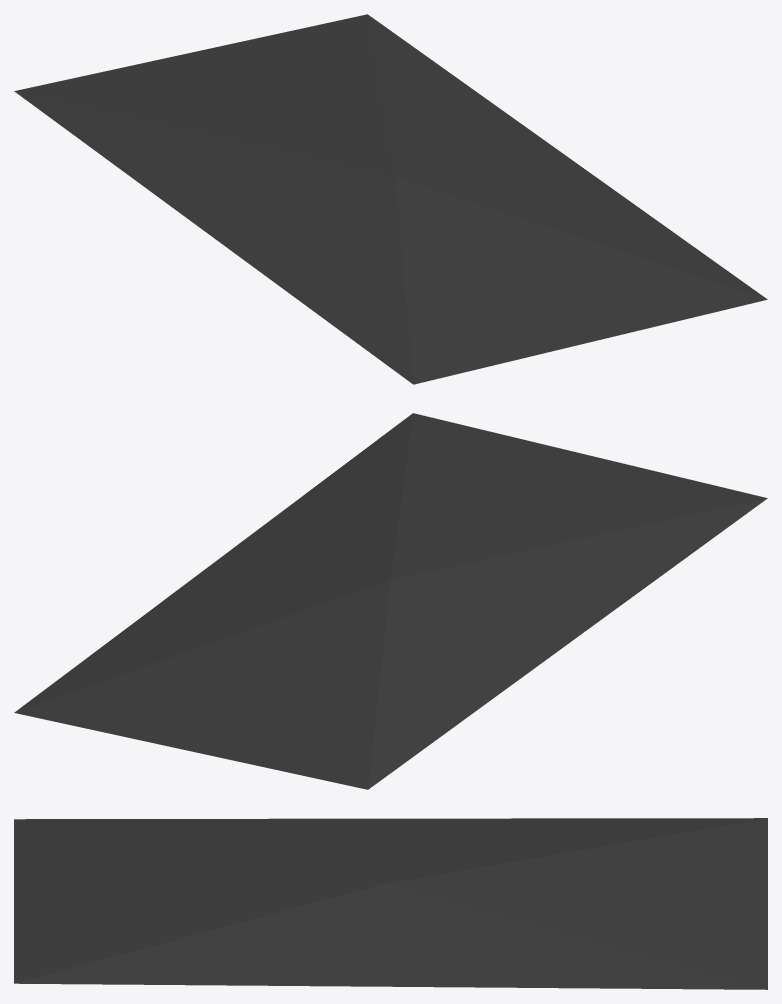
The model's file is Cave_8_Down.fbx.
3 views of the same model, one above another, from view 1: azimuth 30°, elevation 25°; view 2: azimuth 150°, elevation 25°; view 3: azimuth 270°, elevation 25° (orthographic). The views are drawn at different scales.
Visible parts, largest first — view 1: pPlane45; view 2: pPlane45; view 3: pPlane45.
Boxes of the visible parts, x1=… form: pPlane45: x1=14, y1=14, x2=767, y2=384; pPlane45: x1=14, y1=413, x2=767, y2=789; pPlane45: x1=14, y1=818, x2=767, y2=989.
Bounding box in the file's own units: 11.32 × 0.843 × 22.1.
